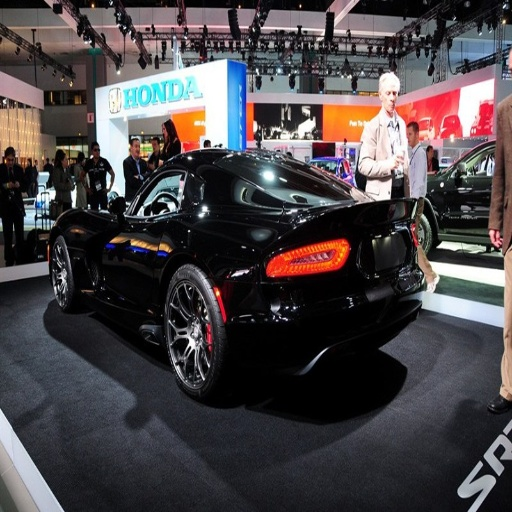back_bumper: (228, 236, 427, 375)
back_glass: (193, 159, 332, 199)
